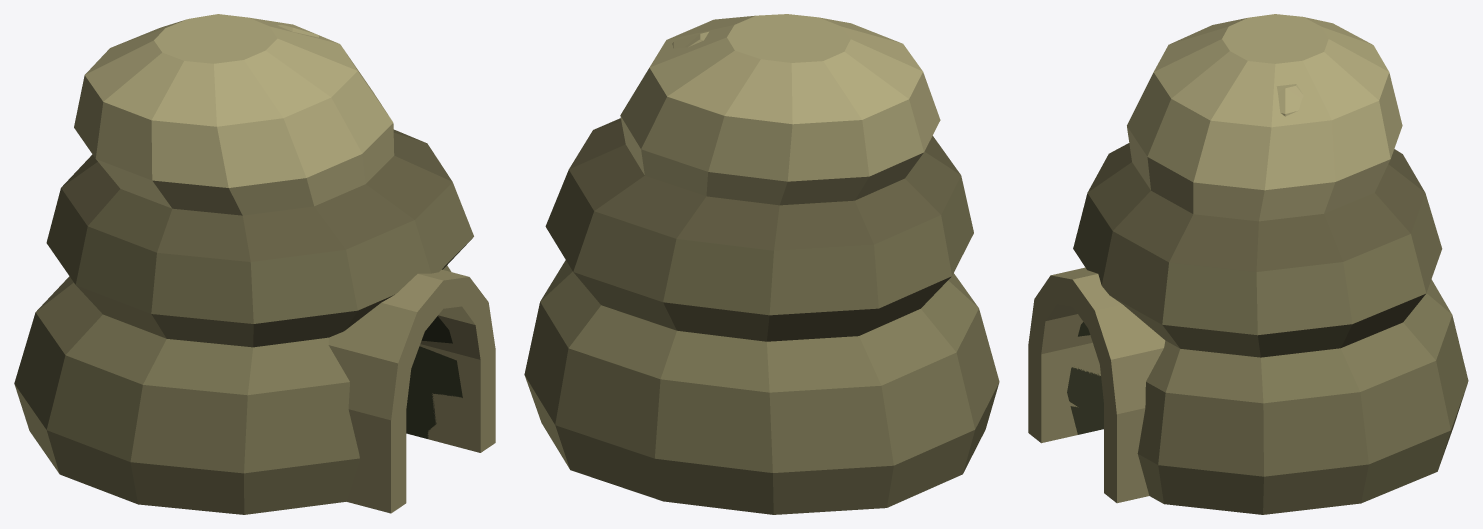
File: hive_a.obj
3 views of the same model, side by side, from view 1: azimuth 30°, elevation 25°; view 2: azimuth 150°, elevation 25°; view 3: azimuth 270°, elevation 25° (orthographic). The views are drawn at different scales.
Visible parts, largest first — view 1: hive_a; view 2: hive_a; view 3: hive_a.
Boxes of the visible parts, <box> form: hive_a: <box>14,14,495,514</box>; hive_a: <box>524,14,999,514</box>; hive_a: <box>1028,14,1468,514</box>.
Bounding box in the file's own units: 0.9144 × 0.83 × 0.8881.
